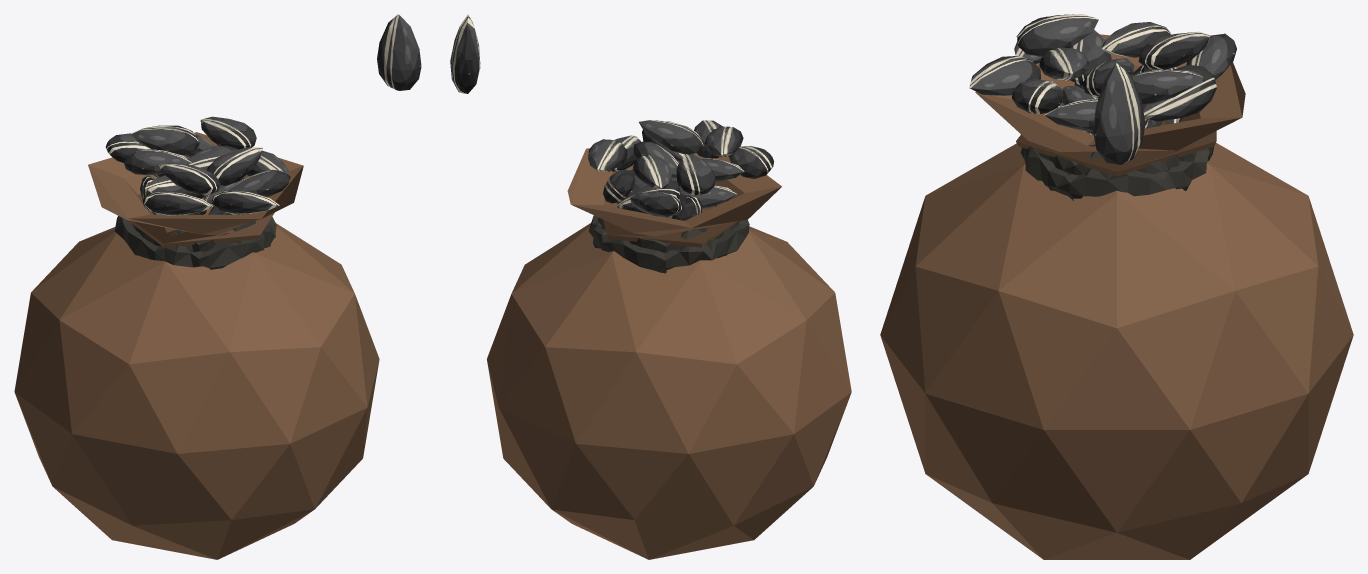
File: Seeds.fbx
3 views of the same model, side by side, from view 1: azimuth 30°, elevation 25°; view 2: azimuth 150°, elevation 25°; view 3: azimuth 270°, elevation 25° (orthographic). The views are drawn at different scales.
Visible parts, largest first — view 1: Bag, Seed; view 2: Bag, Seed; view 3: Bag, Seed.
Boxes of the visible parts, left/top/right/bottom form: Bag: left=14, top=116, right=379, bottom=559; Seed: left=377, top=14, right=421, bottom=90; Bag: left=487, top=120, right=851, bottom=559; Seed: left=450, top=14, right=480, bottom=93; Bag: left=880, top=14, right=1353, bottom=559; Seed: left=1093, top=63, right=1145, bottom=164.
Bounding box in the file's own units: 993 × 1224 × 860.
Materials: 3 (1 with a texture image).
